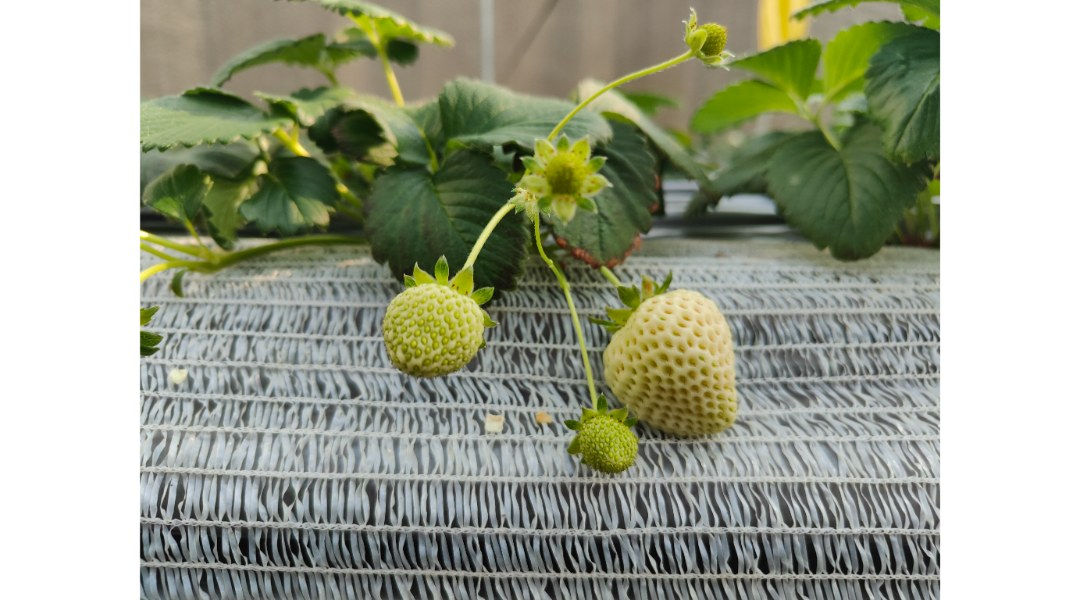berry: (601, 270, 749, 454), (376, 248, 507, 386), (508, 125, 618, 237), (677, 5, 754, 78), (571, 407, 652, 475)
strain: (553, 52, 689, 146), (535, 258, 592, 398), (464, 196, 520, 266)
